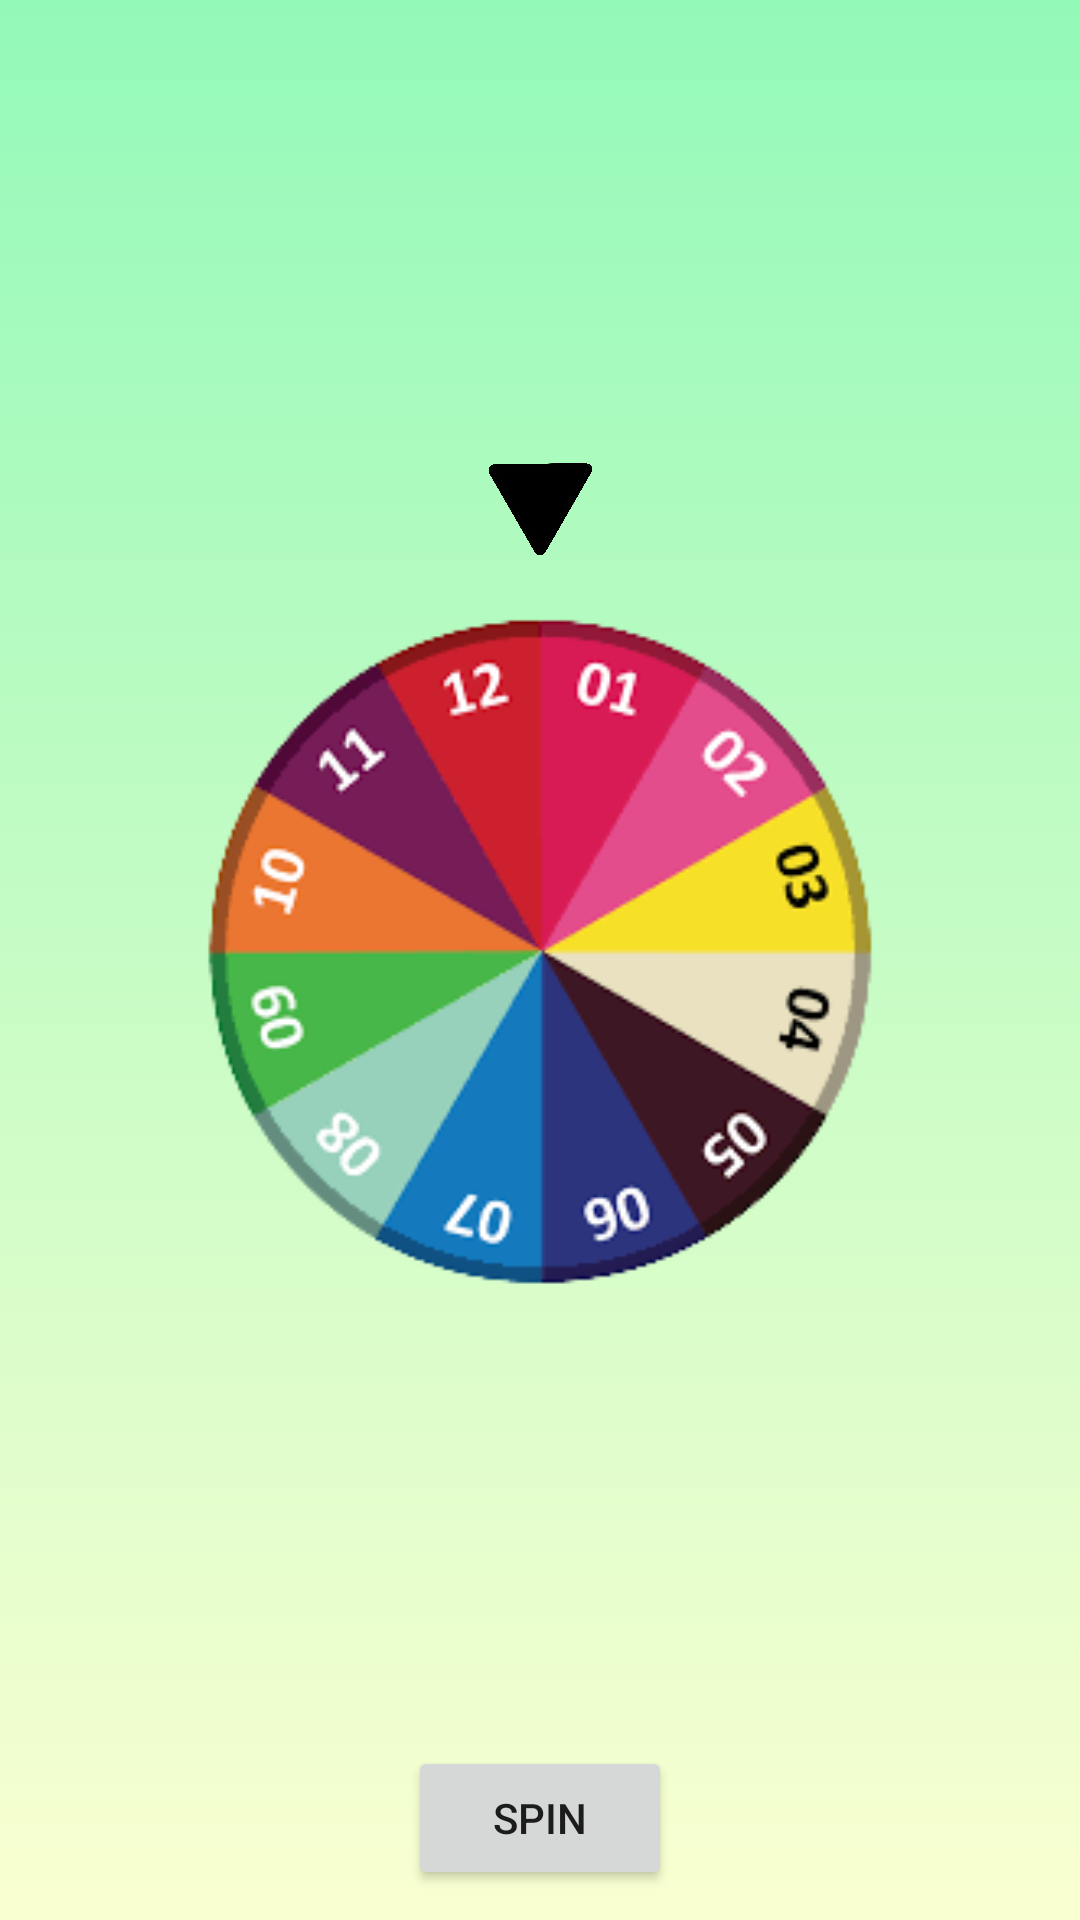

Where to tap for icons on this 1080x1920 app screen, as (x=x, y=y):
indicator: (x=540, y=509)
